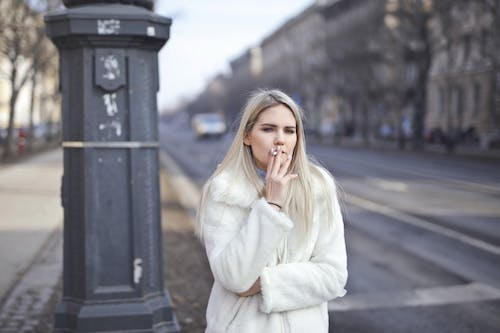cigarette: (271, 150, 278, 157)
